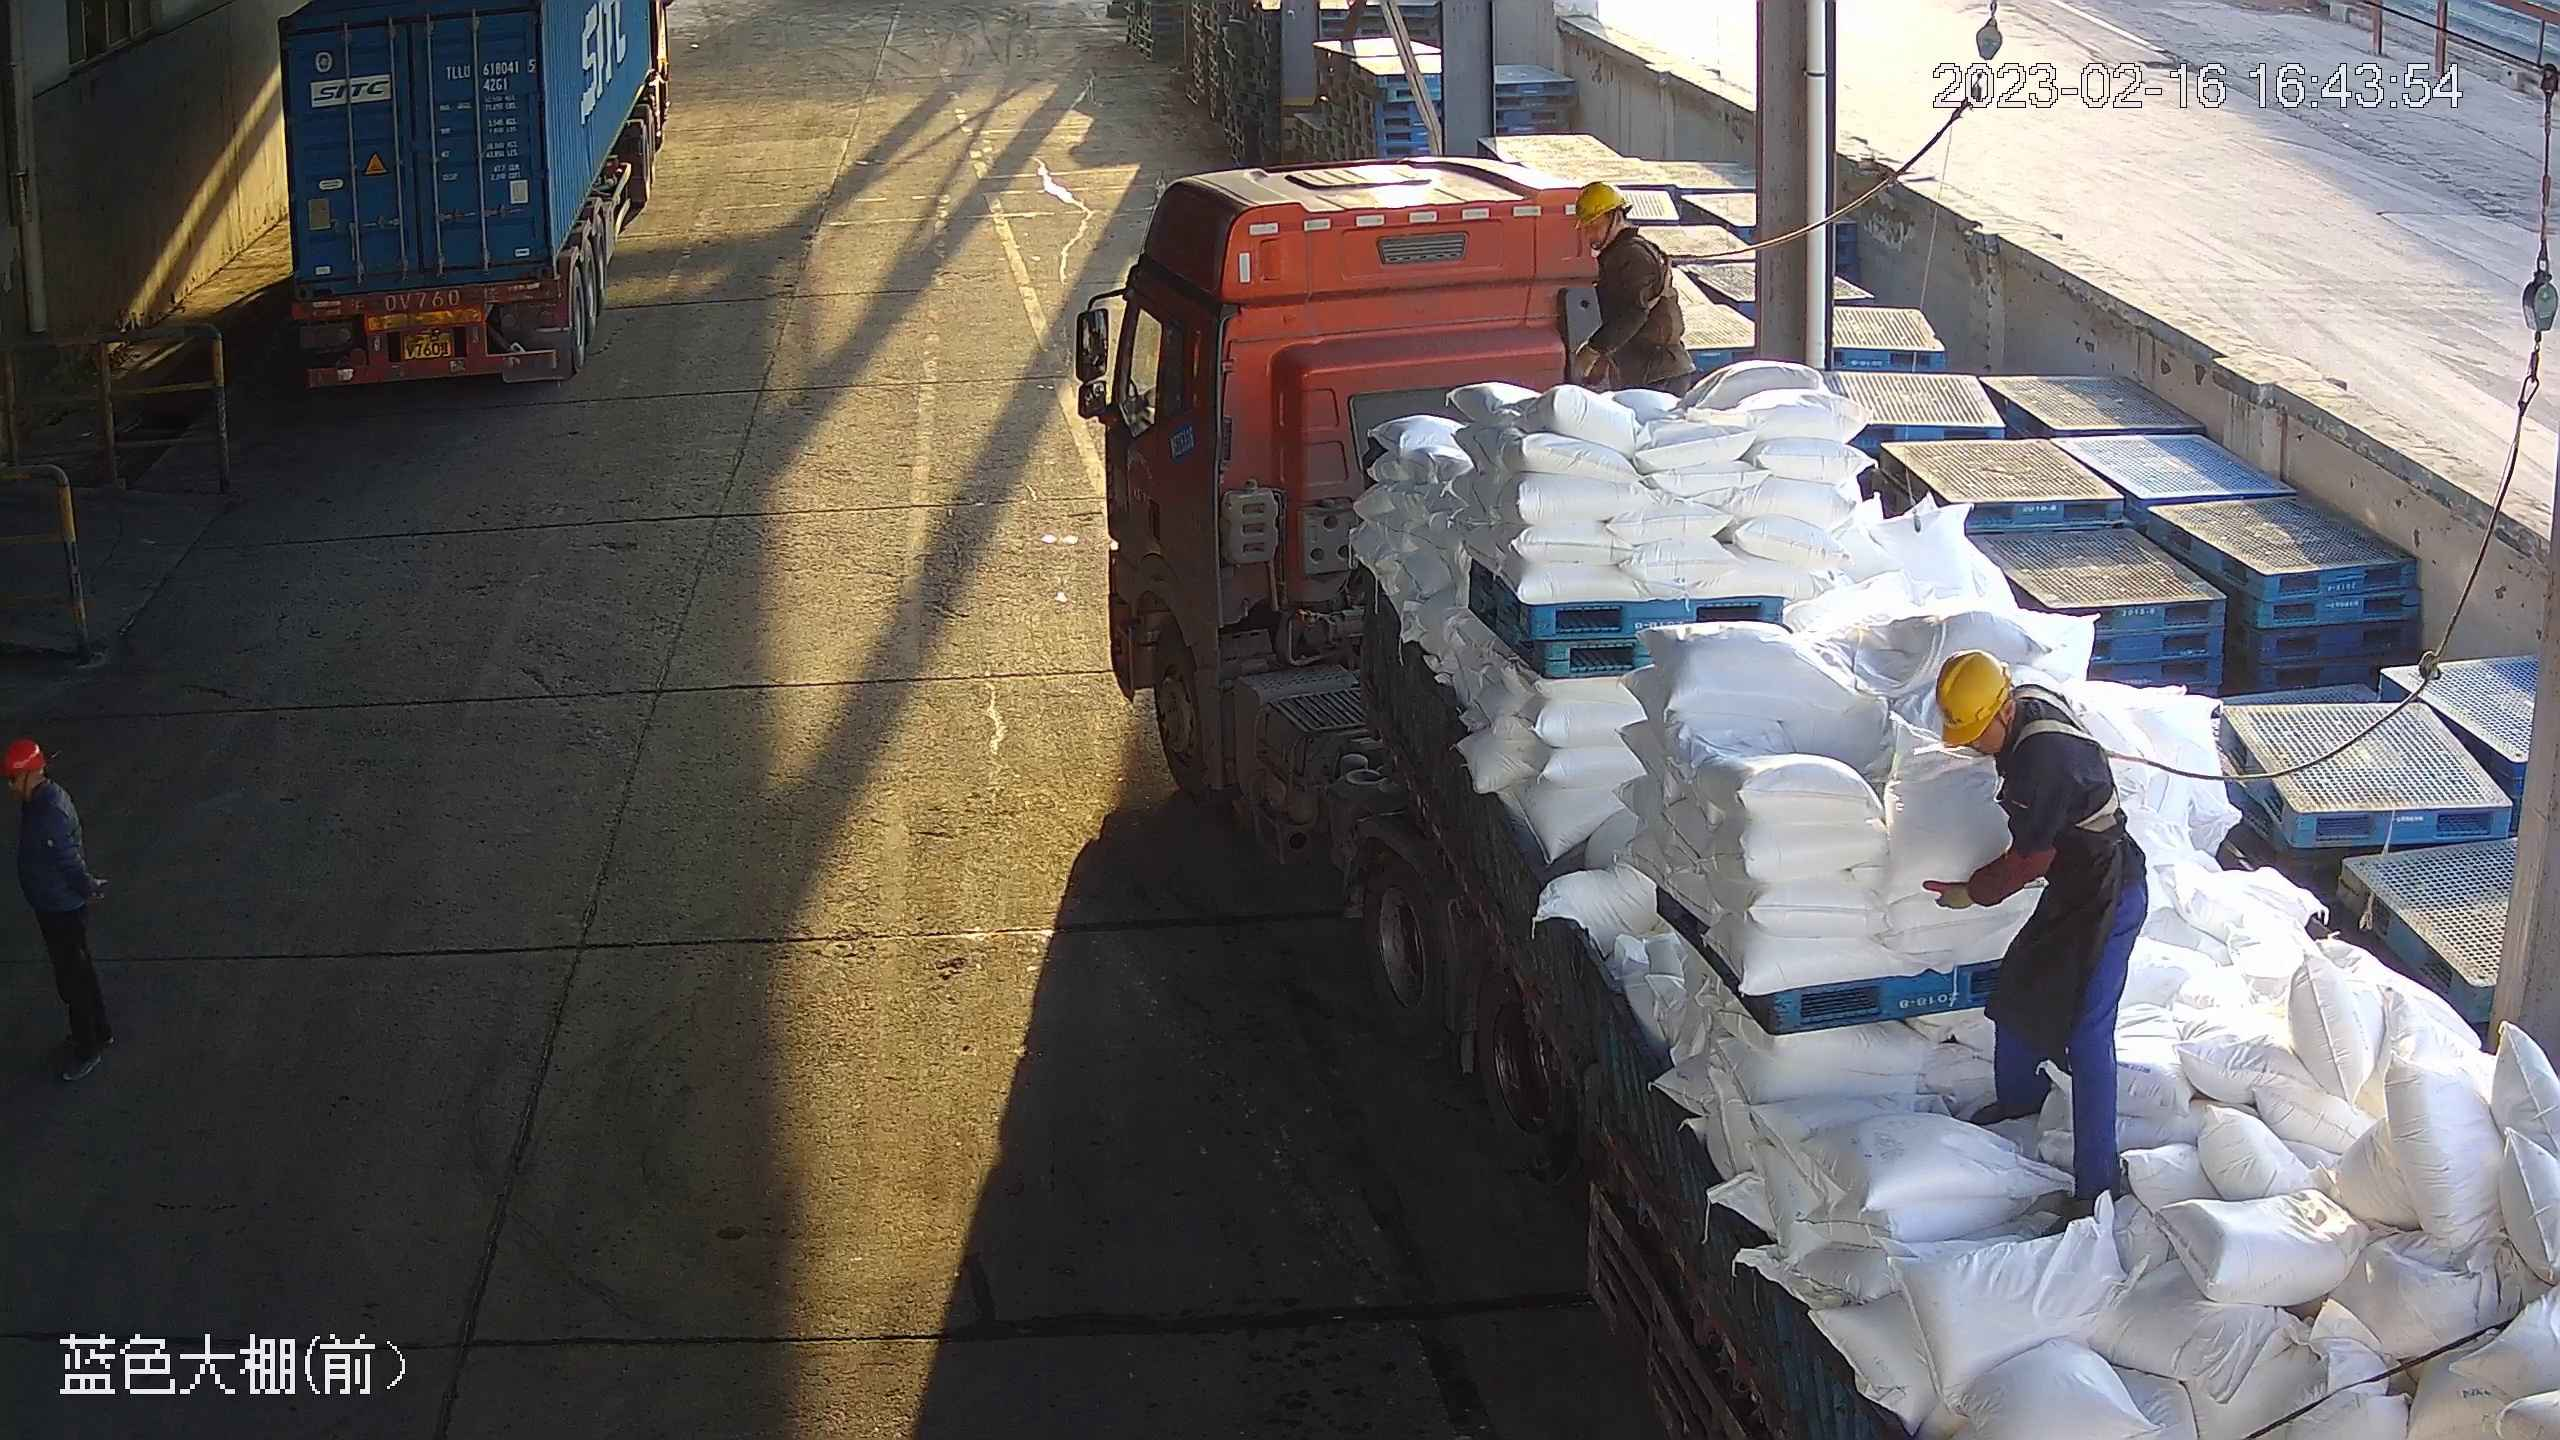belt: (2012, 687, 2130, 830), (1630, 236, 1680, 310)
head: (1934, 647, 2105, 794), (1573, 181, 1663, 285), (2, 740, 75, 825)
helmet: (1935, 648, 2010, 744), (1573, 180, 1627, 229), (1, 739, 47, 775)
people: (1922, 647, 2149, 1244), (2, 739, 118, 1084), (1571, 181, 1695, 394)
truck: (1076, 157, 2560, 1440), (276, 1, 667, 392)
